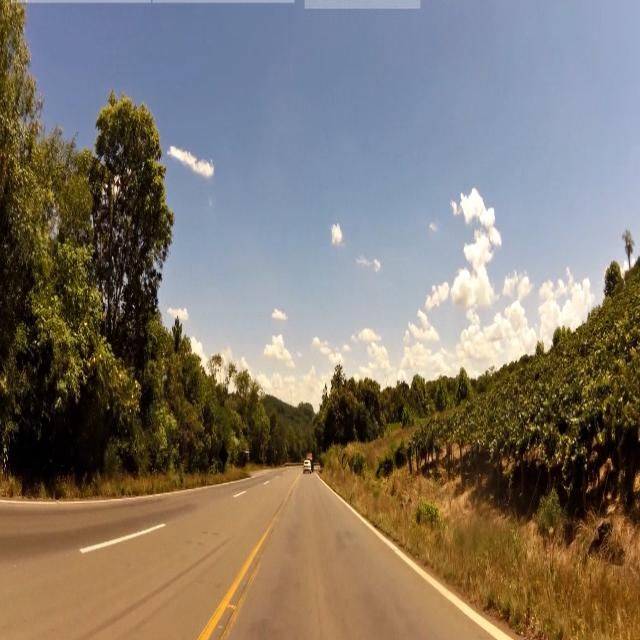A-2b: (338, 446, 349, 469)
